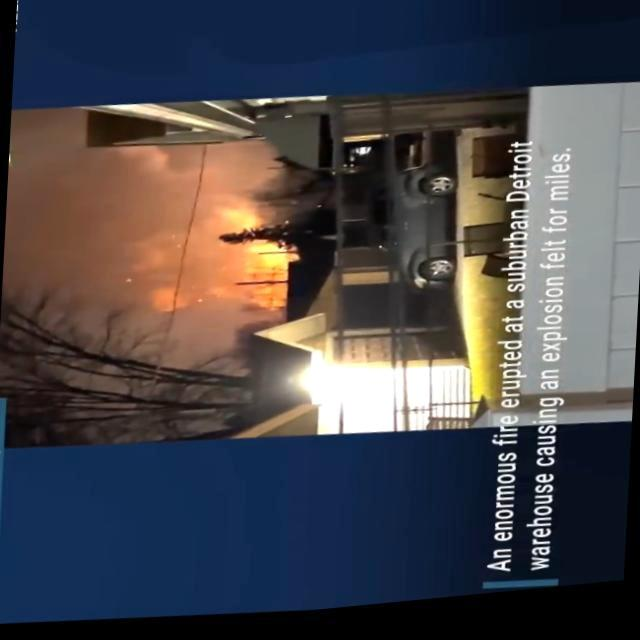fire: (234, 246, 286, 312), (204, 207, 256, 241)
